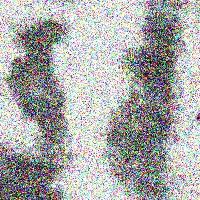patches: (23, 8, 94, 196), (127, 18, 196, 146), (126, 149, 199, 200)
